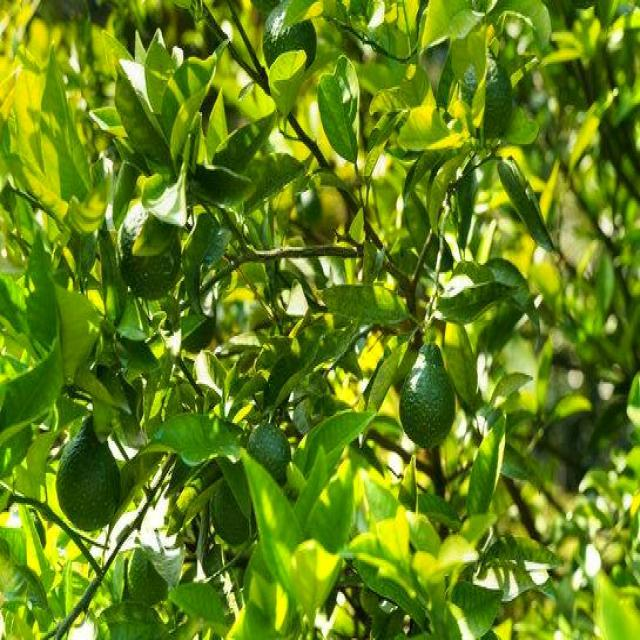Jeruk Belum Matang: (120, 197, 182, 299), (56, 436, 118, 530), (397, 364, 458, 452), (462, 61, 512, 135), (259, 2, 316, 66), (209, 488, 254, 548), (248, 420, 292, 478), (126, 546, 172, 598)
